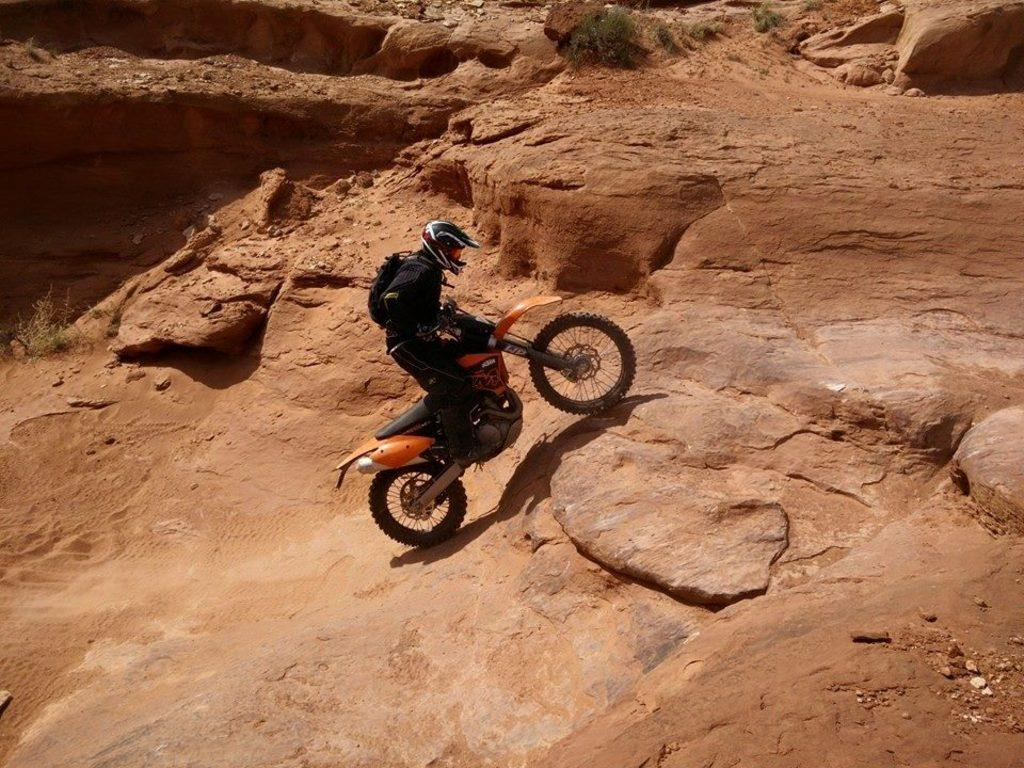Motorcycle: (336, 303, 643, 567)
